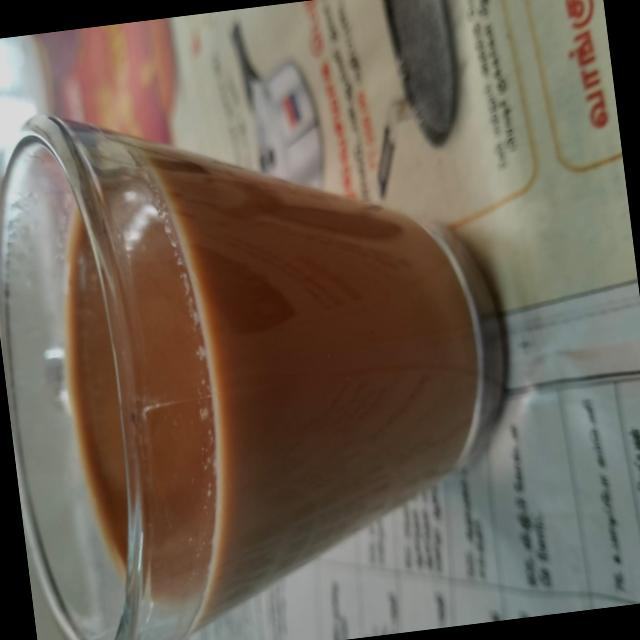glass-VX4N: (0, 66, 538, 640)
